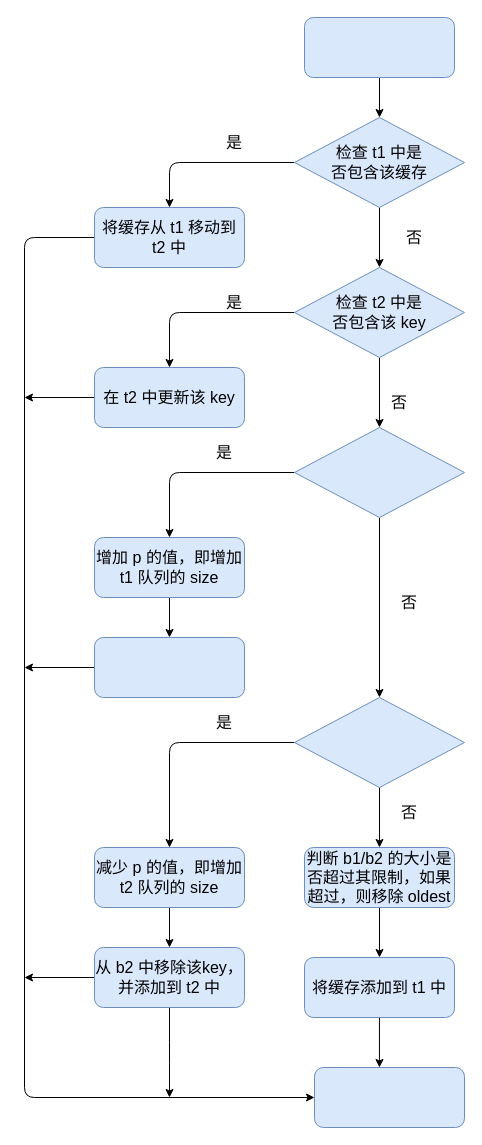
Image size: 482x1145. Some labels were removed from this diagram. Here are the shapes that lost their labels. From the top down, the centre of each, then its label:
point (379, 47): 开始
point (379, 472): 检查 b1 中是否 包含该 key
point (169, 667): 从 b1 中移除该key，并添加到 t2 中
point (379, 742): 检查 b2 中是否 包含该 key
point (389, 1097): 结束
